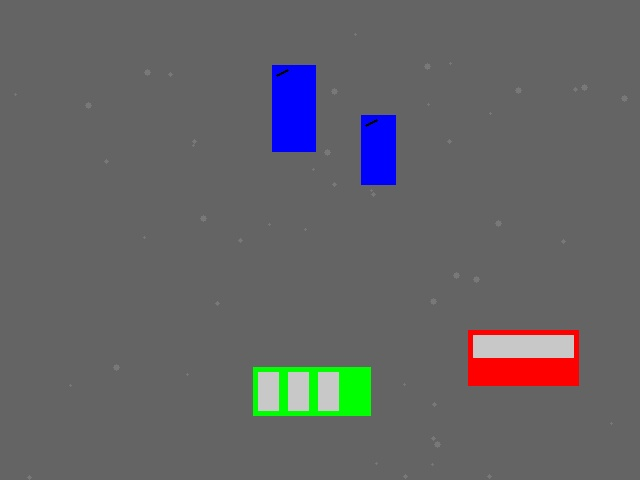bus: (253, 367, 370, 415)
car: (468, 330, 578, 385)
motorcycle: (272, 65, 315, 151), (361, 115, 395, 184)
